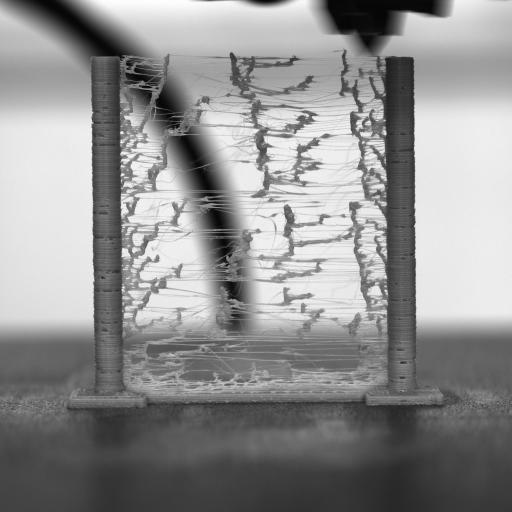spaghetti_and_stringing: (121, 51, 390, 387)
